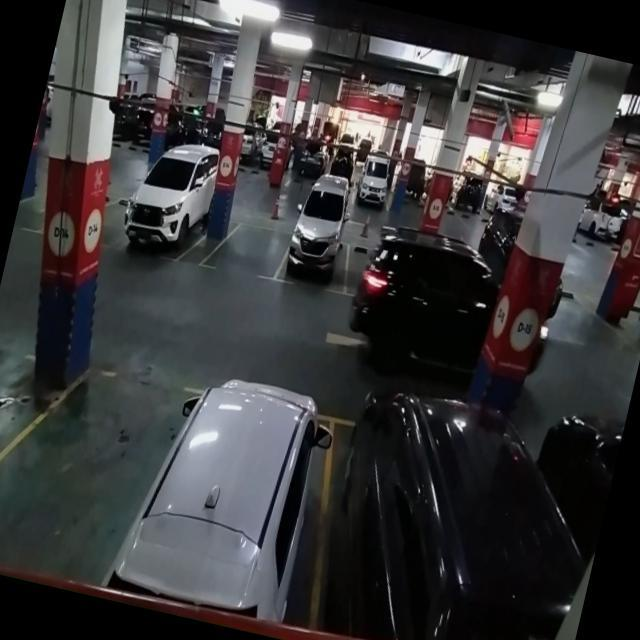empty: (0, 350, 171, 594), (207, 213, 293, 286)
occupied: (295, 397, 554, 640), (129, 378, 344, 630), (116, 144, 219, 267), (278, 190, 361, 296)
